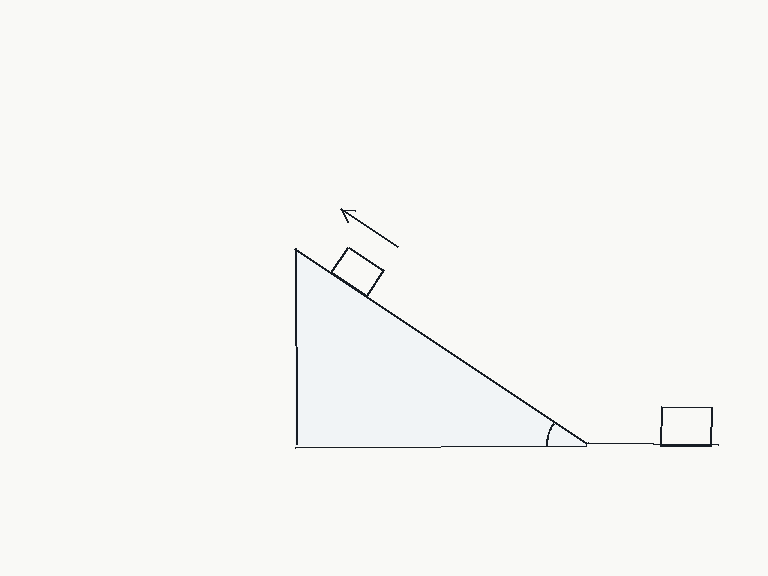block: (329, 245, 385, 298), (658, 406, 714, 447)
ramp: (293, 246, 589, 447)
